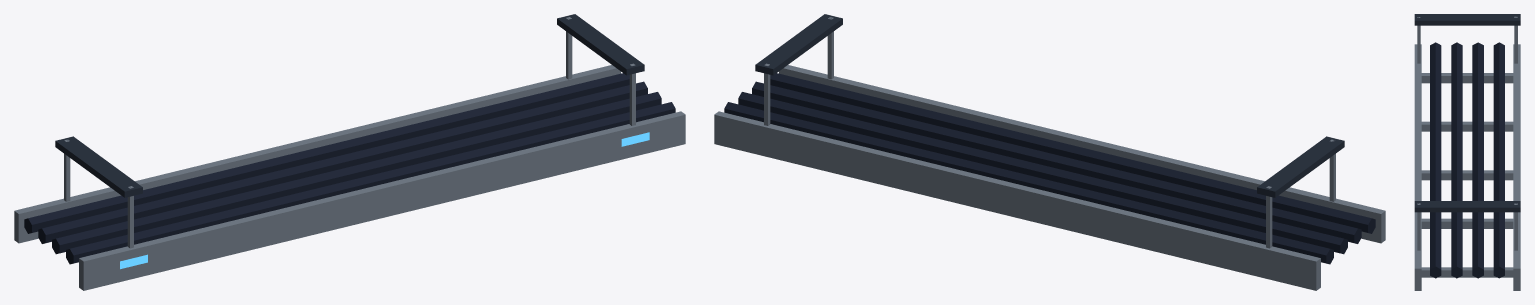
File: fus_overhead_cable_tray.glb
3 views of the same model, side by side, from view 1: azimuth 30°, elevation 25°; view 2: azimuth 150°, elevation 25°; view 3: azimuth 270°, elevation 25° (orthographic). The views are drawn at different scales.
Visible parts, largest first — view 1: superconducting_cable, suspension_rod, ceiling_attachment, circuit_tag; view 2: superconducting_cable, suspension_rod, ceiling_attachment; view 3: superconducting_cable, suspension_rod, ceiling_attachment.
Part boxes in pixels (x1=…): superconducting_cable: x1=24, y1=73, x2=675, y2=264; suspension_rod: x1=14, y1=17, x2=685, y2=290; ceiling_attachment: x1=55, y1=14, x2=644, y2=197; circuit_tag: x1=120, y1=132, x2=649, y2=269; superconducting_cable: x1=724, y1=73, x2=1375, y2=264; suspension_rod: x1=714, y1=17, x2=1385, y2=290; ceiling_attachment: x1=755, y1=14, x2=1344, y2=197; superconducting_cable: x1=1430, y1=42, x2=1504, y2=278; suspension_rod: x1=1414, y1=16, x2=1520, y2=290; ceiling_attachment: x1=1414, y1=14, x2=1520, y2=212.
Size of the model in its own units: 6 by 0.85 by 1.2.
